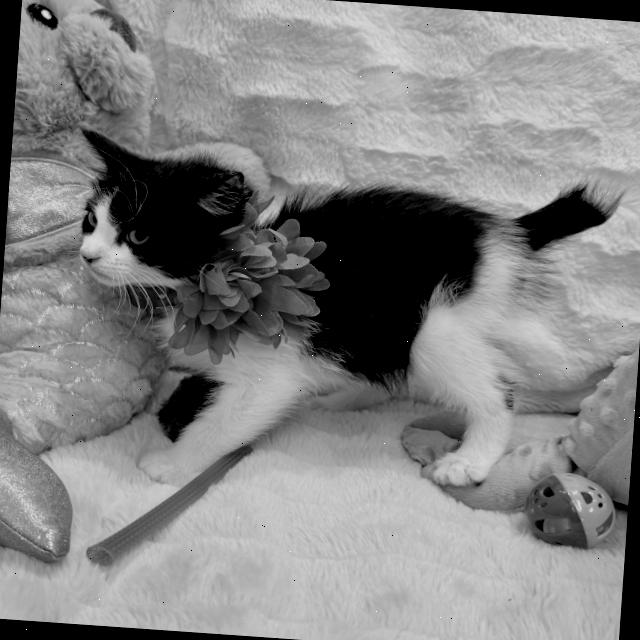manx_cat: (59, 110, 268, 324)
